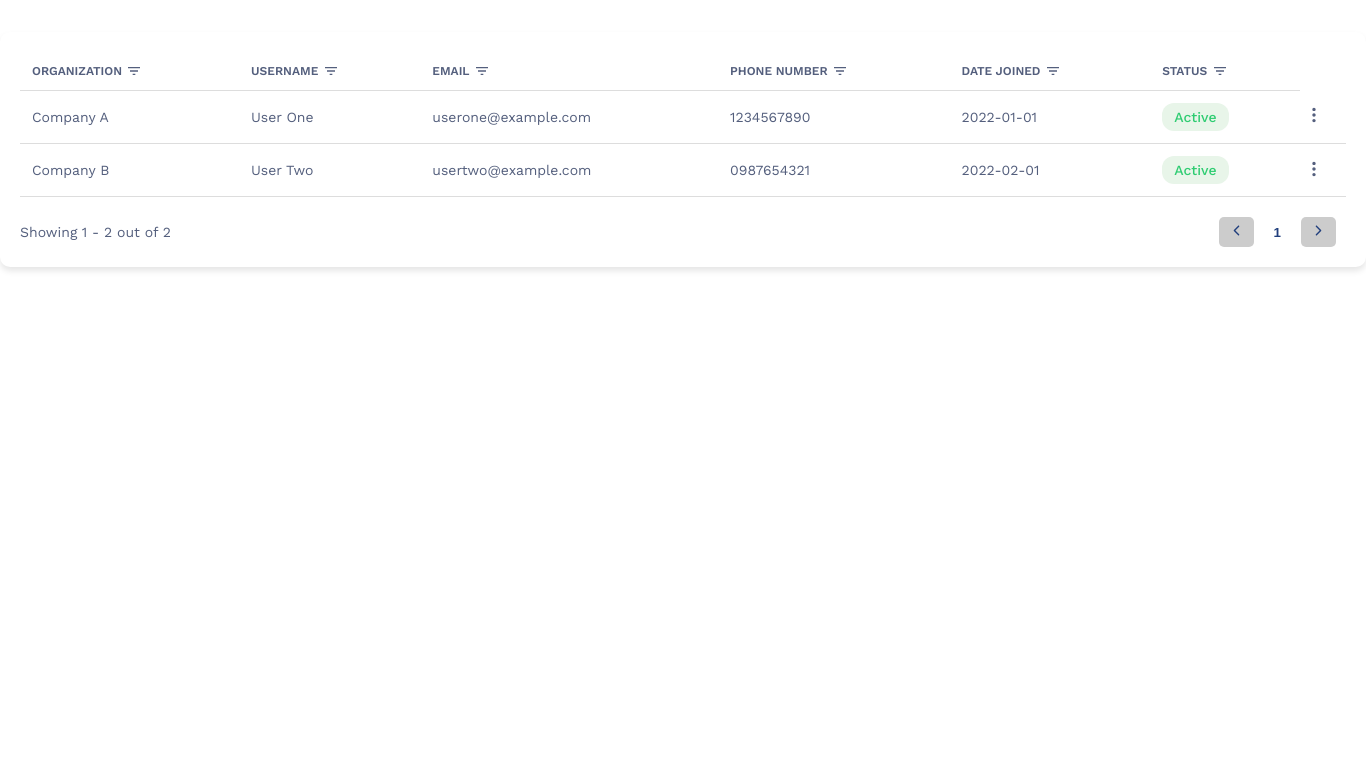
Test: Table Component › toggles the filter form when filter icon is clicked
What coordinates should you click on to do the following:
click the picture named "filter" next to "ORGANIZATION"
I would click on:
 (134, 71)
Its box is [128, 65, 140, 77].
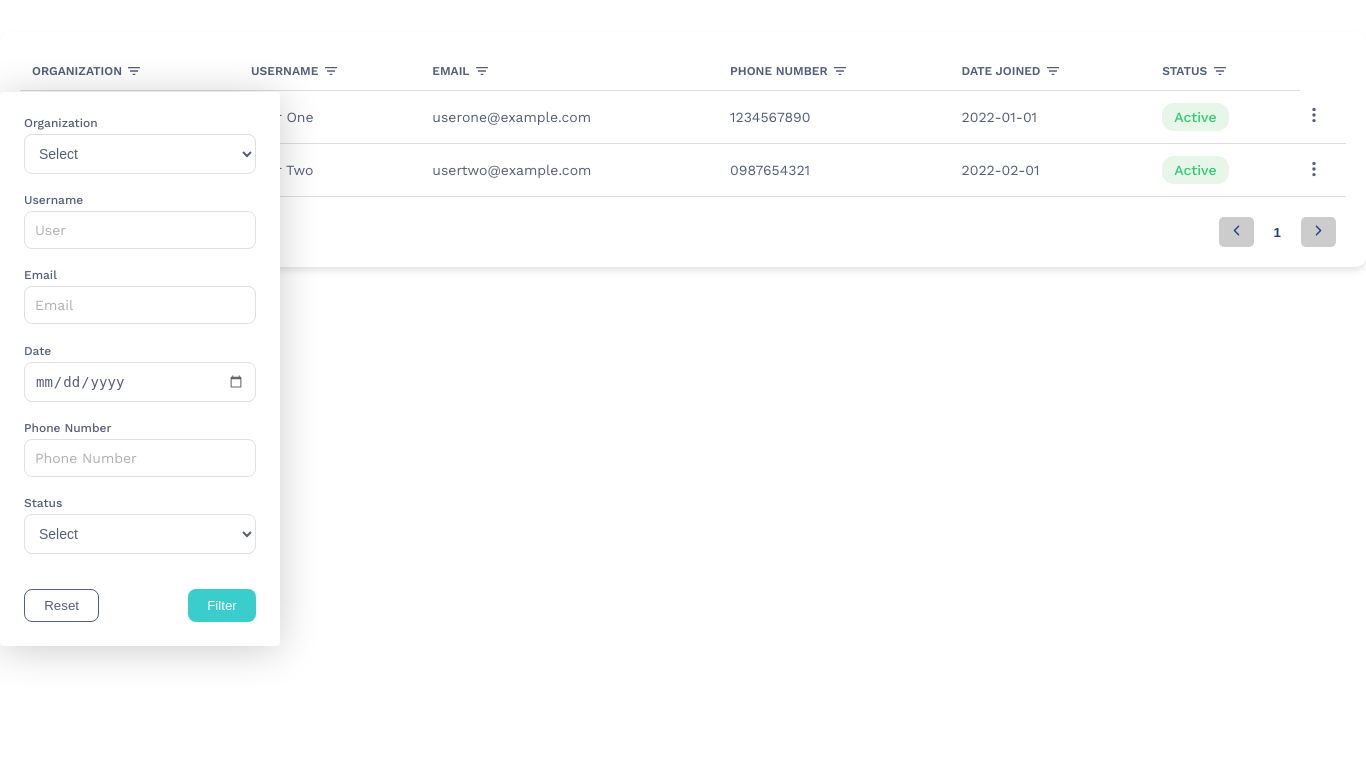
Expected: the text "Organization" is shown, [24, 116, 98, 130]
